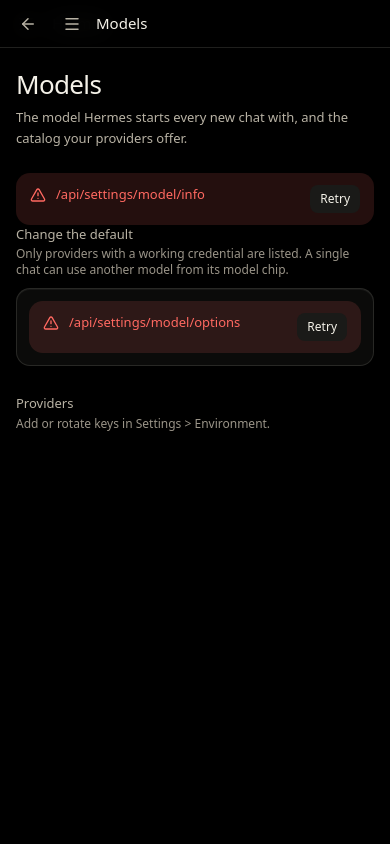
SettingsLayout mobile shell › closes the drawer with Escape
The image size is (390, 844).
Click the button named "Open Settings navigation": click(72, 24) top-left (52, 4), bottom-right (92, 44)
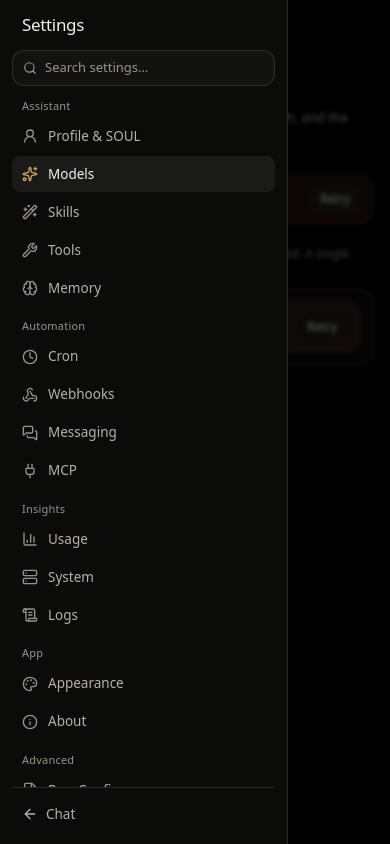
Press Escape
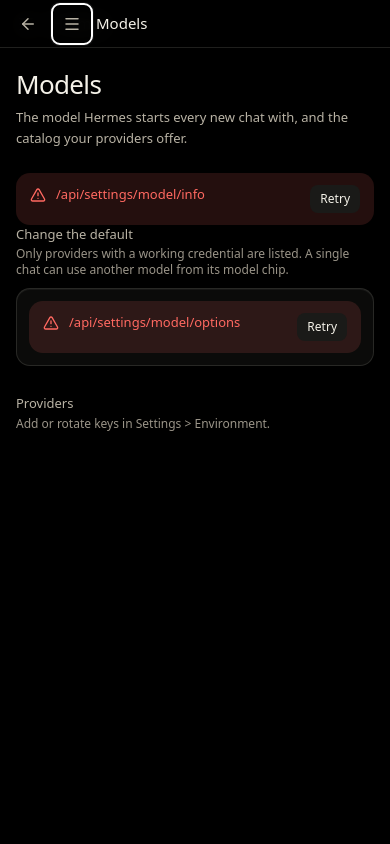
Expected: the button named "Open Settings navigation" is collapsed, top-left (52, 4), bottom-right (92, 44)
